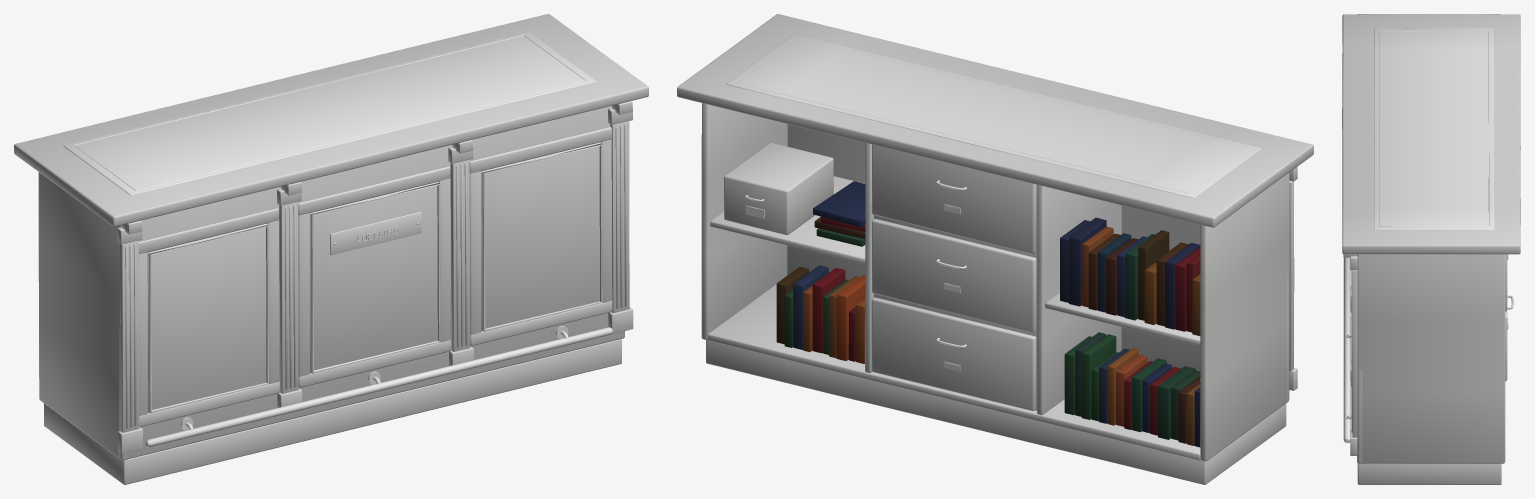
File: counter_dark_academia.glb
3 renders of one model, left to right at view 1: azimuth 30°, elevation 25°; view 2: azimuth 150°, elevation 25°; view 3: azimuth 270°, elevation 25°, orthographic. The views are drawn at different scales.
Parts seen in each view (by area): view 1: wood, leather, brass; view 2: wood, cover, leather, brass; view 3: wood, leather, brass.
Part boxes in pixels (<box>): wood: <box>14,14,648,484</box>; leather: <box>63,32,596,195</box>; brass: <box>74,35,612,447</box>; wood: <box>677,14,1313,484</box>; cover: <box>776,181,1200,447</box>; leather: <box>726,34,1261,198</box>; brass: <box>737,37,1250,371</box>; wood: <box>1342,14,1520,484</box>; leather: <box>1374,28,1494,230</box>; brass: <box>1343,31,1513,443</box>.
Size of the model in its own units: 2 by 1 by 0.6515.
